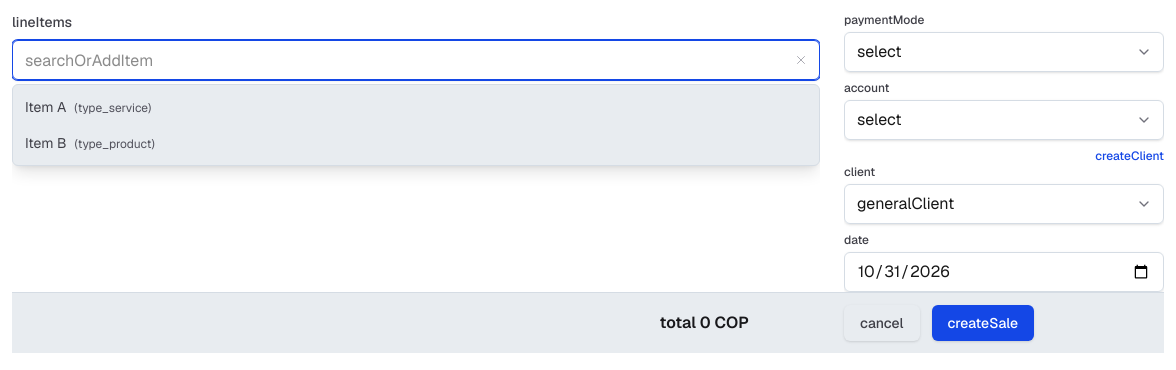
Test case: SaleForm remove-item control (C12-3c) › renders an icon-only remove button with accessible name and tooltip
This screenshot has width=1176, height=370.
Expected: the list with id "item-search-listbox" is shown, [12,84,820,166]
Step 1. Press the mouse on the option "Item A(type_service)" → (88, 107), box [25,98,151,116]
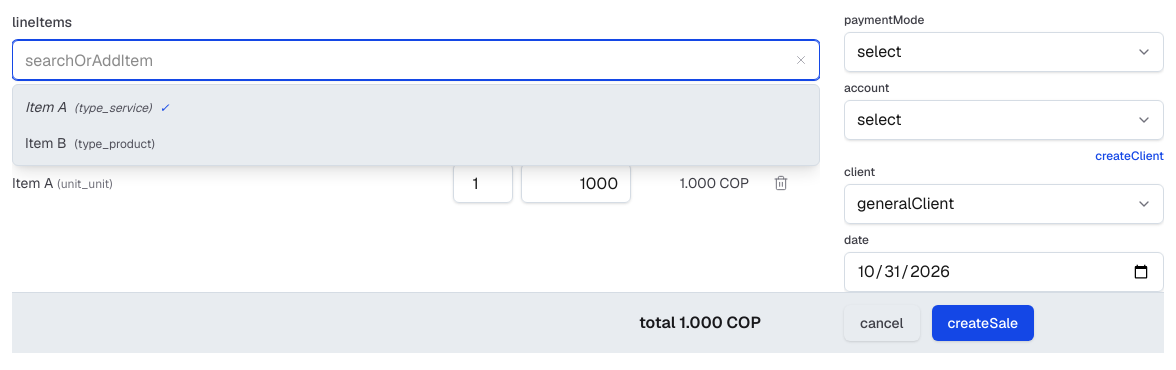
Now the button named "remove" is empty, box [757,161,805,205]
Now the icon in the row of "unit_unit" is shown, box [773,175,789,191]
